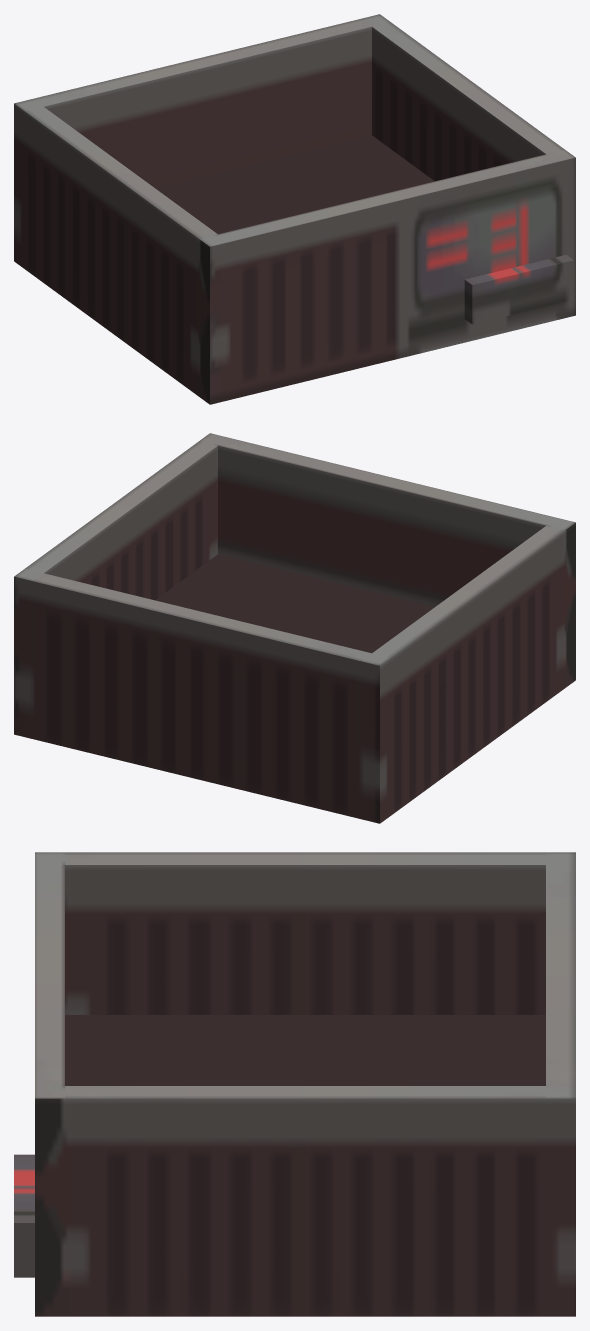
The model's file is Building_AncientSecurityCrate__Open.obj.
3 renders of one model, top to bottom at view 1: azimuth 30°, elevation 25°; view 2: azimuth 150°, elevation 25°; view 3: azimuth 270°, elevation 25°, orthographic. The views are drawn at different scales.
Visible parts, largest first — view 1: Body; view 2: Body; view 3: Body.
Boxes of the visible parts, x1,y1,x2,y2 form: Body: (14, 14, 575, 404); Body: (14, 433, 575, 823); Body: (14, 852, 575, 1316).
Size of the model in its own units: 1.94 by 0.8 by 1.87.
1 material, 1 textured.
